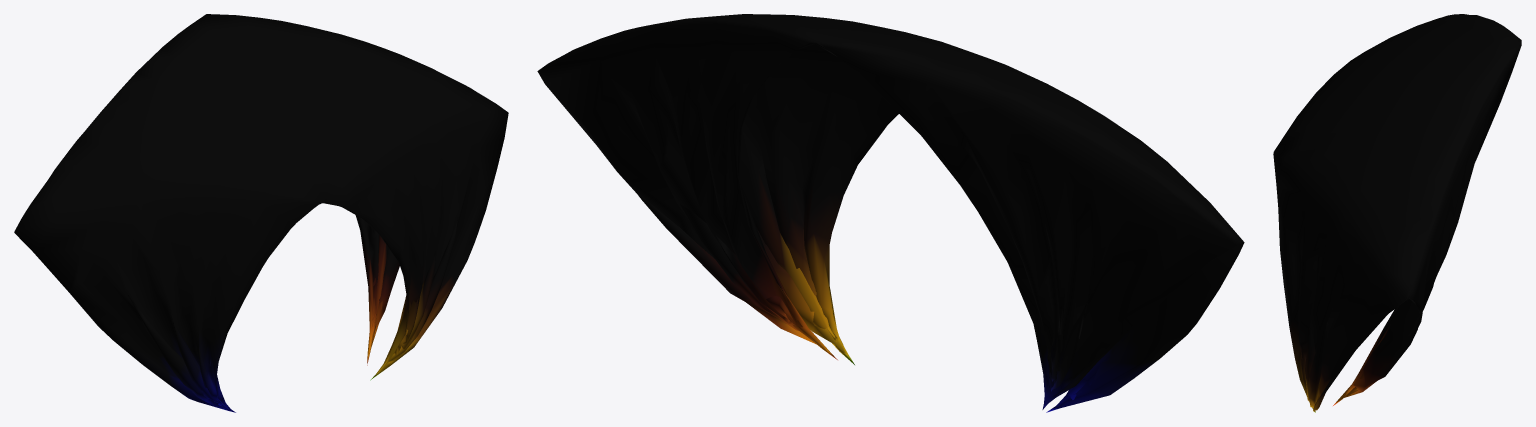
File: chibi_scarf_canopy.glb
3 views of the same model, side by side, from view 1: azimuth 30°, elevation 25°; view 2: azimuth 150°, elevation 25°; view 3: azimuth 270°, elevation 25° (orthographic). The views are drawn at different scales.
Visible parts, largest first — view 1: Chibi Scarf Canopy; view 2: Chibi Scarf Canopy; view 3: Chibi Scarf Canopy.
Boxes of the visible parts, left/top/right/bottom form: Chibi Scarf Canopy: left=14, top=14, right=508, bottom=412; Chibi Scarf Canopy: left=537, top=14, right=1244, bottom=412; Chibi Scarf Canopy: left=1273, top=14, right=1521, bottom=412.
Size of the model in its own units: 2.29 by 1.39 by 0.9236.
